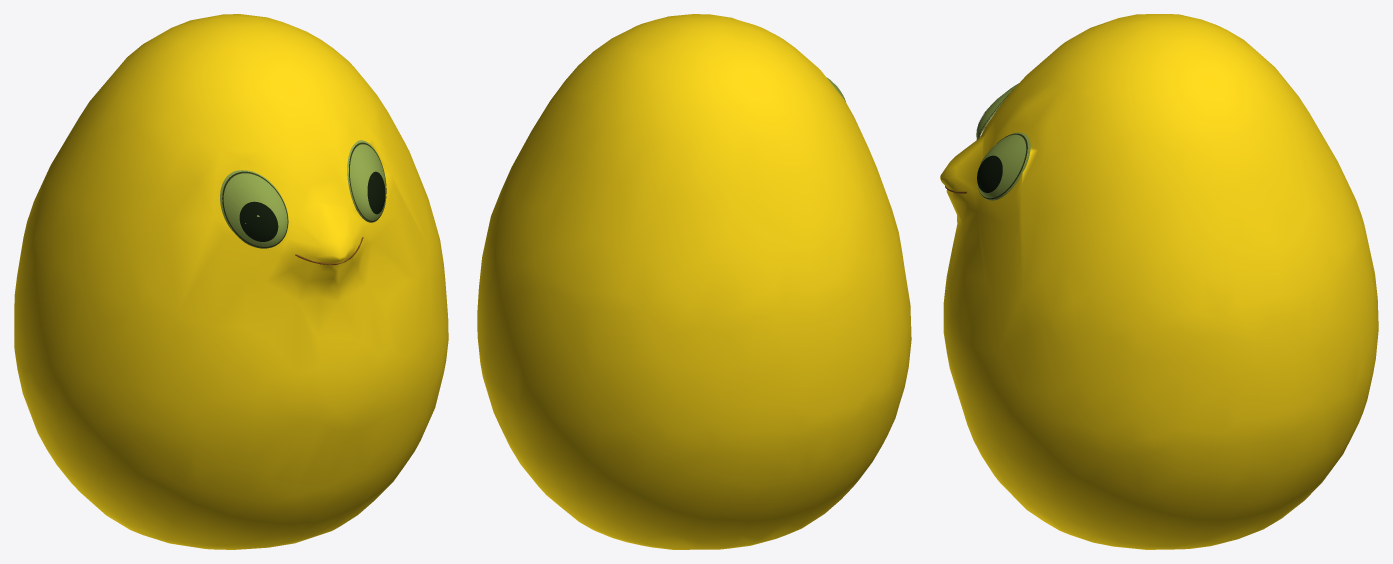
The model's file is nailong_decor.glb.
The picture shows the model from 3 angles, left to right: view 1: azimuth 30°, elevation 25°; view 2: azimuth 150°, elevation 25°; view 3: azimuth 270°, elevation 25°; orthographic projection.
Parts seen in each view (by area): view 1: Naidan_AI_Body, Naidan_AI_EyeFlush_-1, Naidan_AI_EyeFlush_1, Naidan_AI_PupilFlush_-1, Naidan_AI_PupilFlush_1; view 2: Naidan_AI_Body; view 3: Naidan_AI_Body, Naidan_AI_EyeFlush_1, Naidan_AI_PupilFlush_1.
Part boxes in pixels (bbox=[...]): Naidan_AI_Body: bbox=[14, 14, 448, 549]; Naidan_AI_EyeFlush_-1: bbox=[223, 173, 287, 246]; Naidan_AI_EyeFlush_1: bbox=[350, 144, 386, 220]; Naidan_AI_PupilFlush_-1: bbox=[239, 201, 278, 241]; Naidan_AI_PupilFlush_1: bbox=[367, 171, 385, 214]; Naidan_AI_Body: bbox=[477, 14, 911, 549]; Naidan_AI_Body: bbox=[940, 14, 1378, 549]; Naidan_AI_EyeFlush_1: bbox=[977, 134, 1026, 198]; Naidan_AI_PupilFlush_1: bbox=[977, 155, 1002, 192].
Size of the model in its own units: 0.3071 by 0.3746 by 0.3062.
